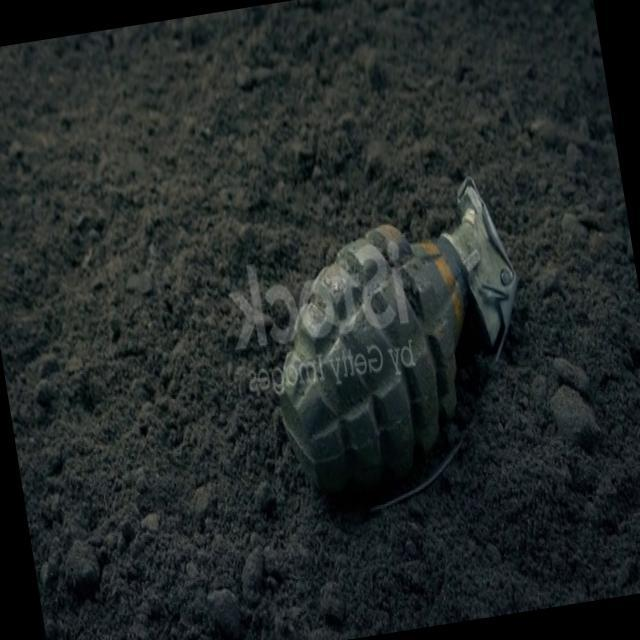grenade: (246, 169, 554, 538)
